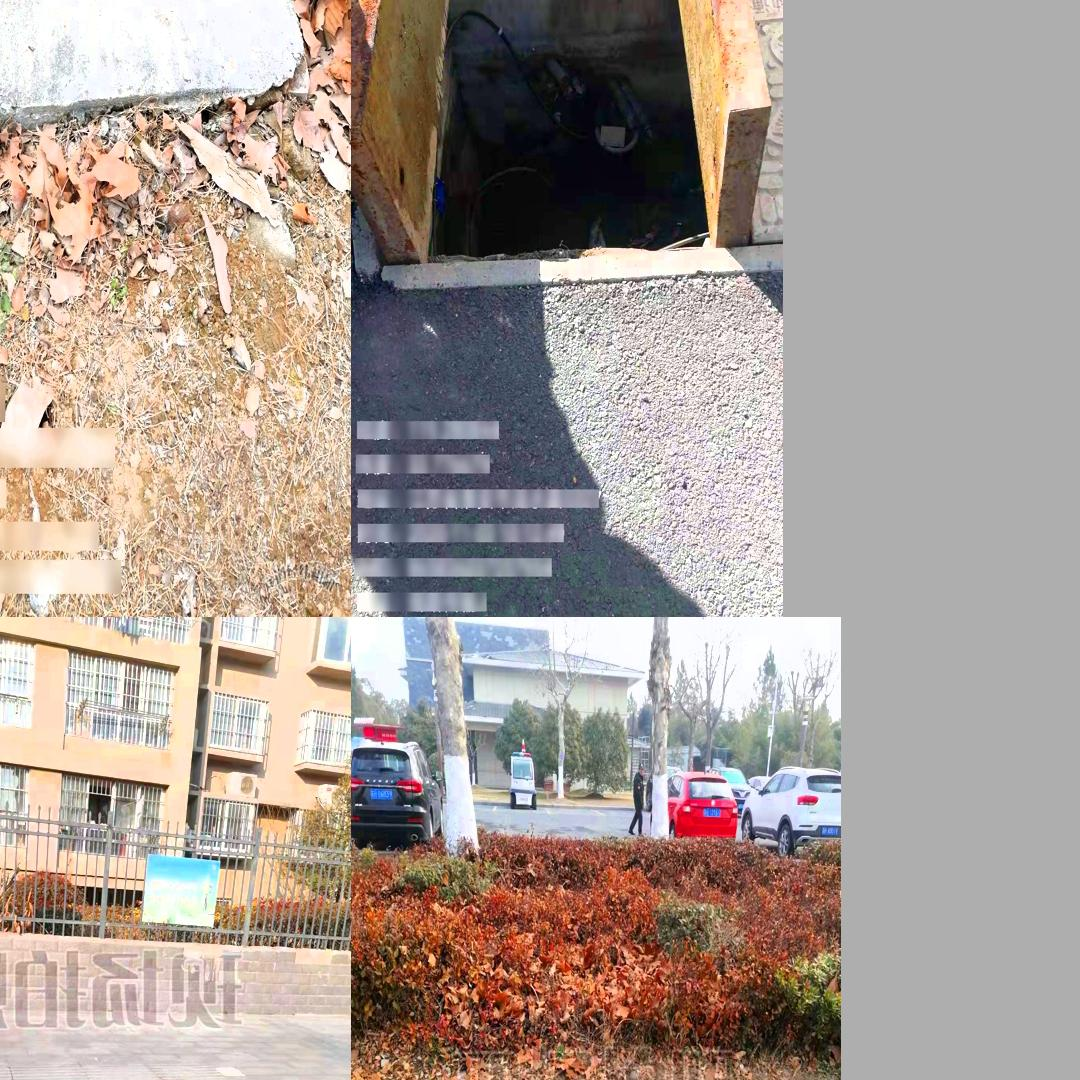uncovered: (357, 0, 781, 286)
